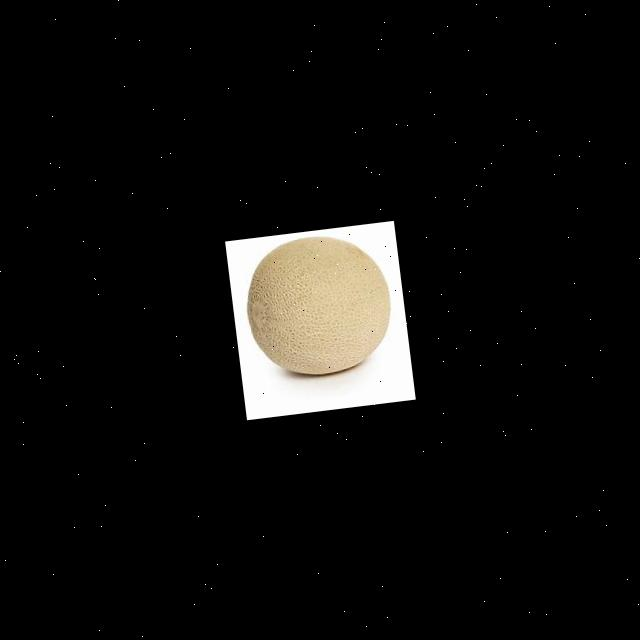Hami Melon: (238, 226, 398, 384)
